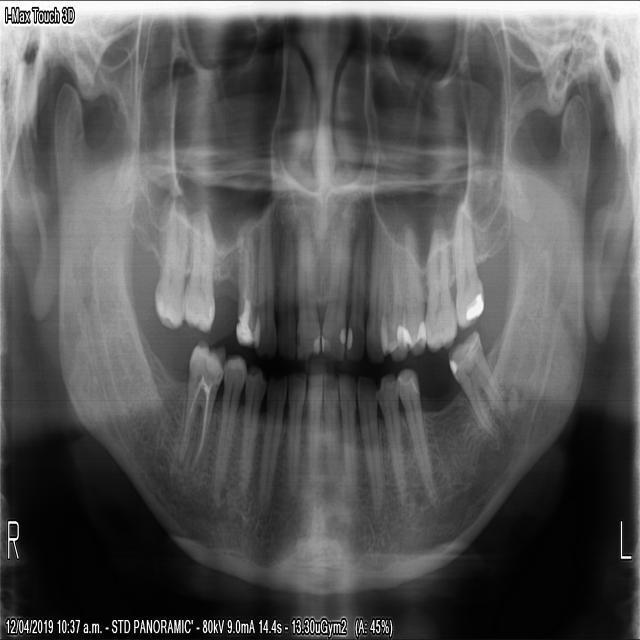LCD: (353, 367, 385, 527)
LCU: (362, 225, 388, 369)
LID: (334, 361, 359, 514), (318, 367, 341, 511)
LIU: (319, 200, 356, 366), (342, 215, 369, 366)
LMD: (442, 326, 511, 451)
LMU: (448, 193, 487, 330), (422, 216, 458, 359)
LPMD: (393, 362, 442, 512), (374, 365, 410, 517)
LPMU: (377, 211, 408, 368), (395, 216, 425, 357)
RCD: (253, 370, 286, 511)
RCU: (251, 202, 277, 359)
RID: (284, 366, 311, 504), (303, 361, 324, 501)
RIU: (292, 210, 321, 364), (275, 213, 297, 366)
RMD: (171, 337, 225, 482)
RMU: (150, 188, 192, 342), (182, 202, 218, 333)
RPMD: (207, 352, 250, 511), (234, 360, 266, 502)
RPMU: (233, 210, 260, 353)
